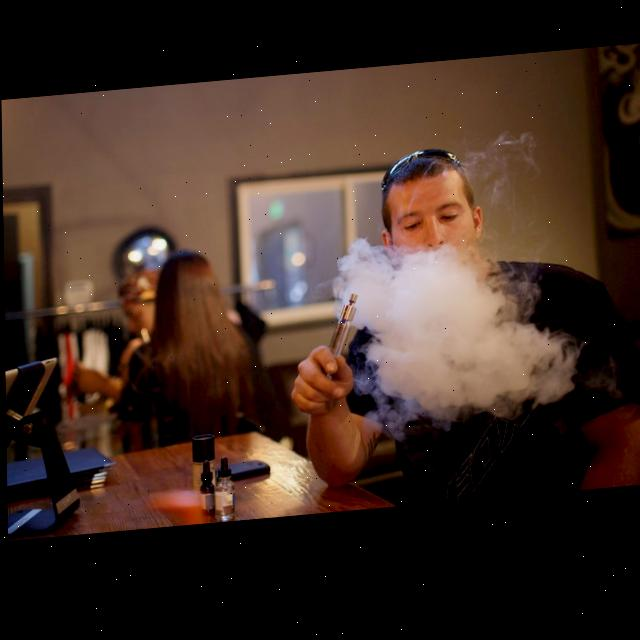vape: (325, 299, 357, 364)
